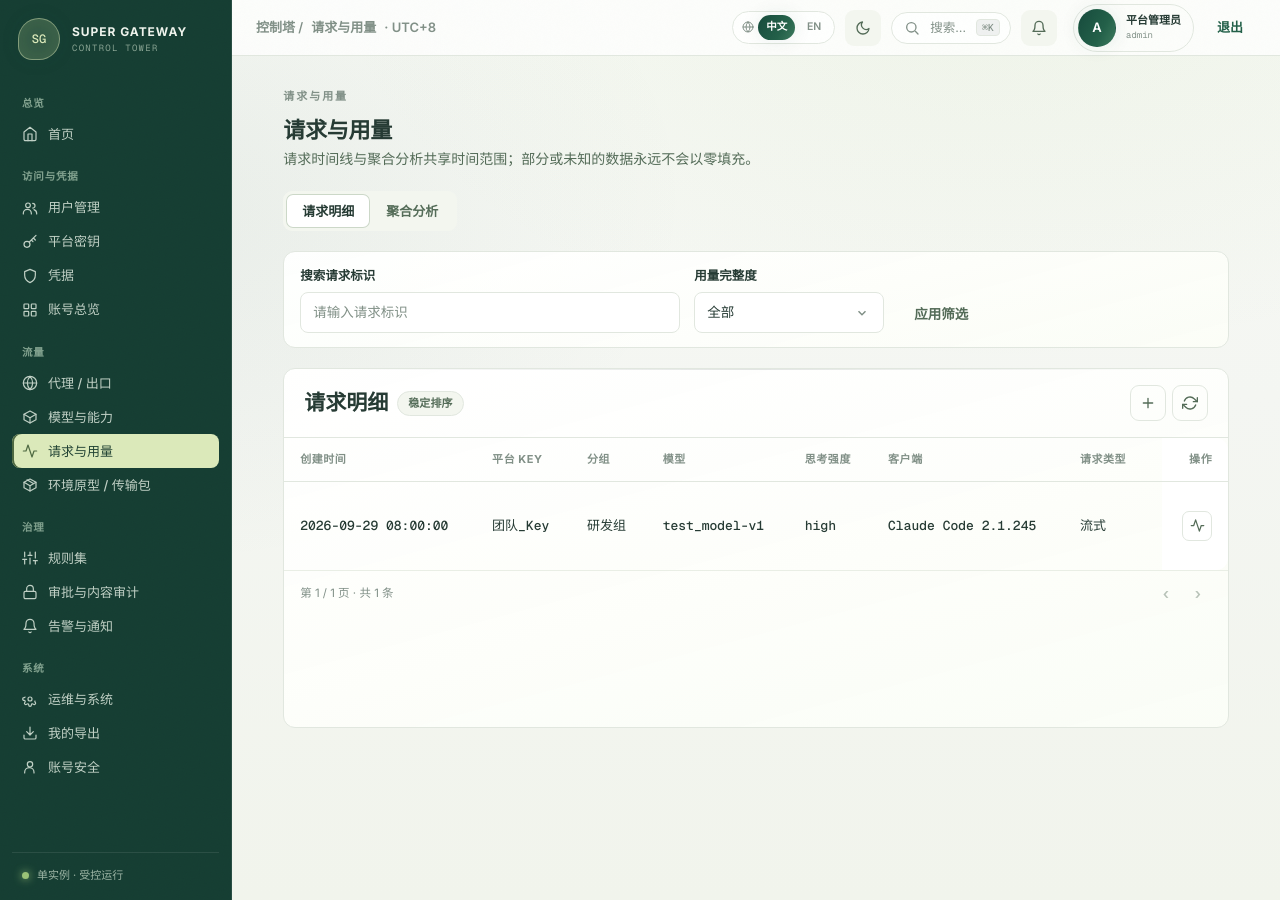
shows named resources and all four token counts, keeps IDs out of the list, and opens a right drawer
The image size is (1280, 900).
Expected: the text "2026-09-29 08:00:00" is shown, [284,482,476,570]
Expected: the text "团队_Key" is shown, [476,482,571,570]
Click the button named "查看详情" at (1197,526), box [1182,511,1212,541]
(page scrolled)
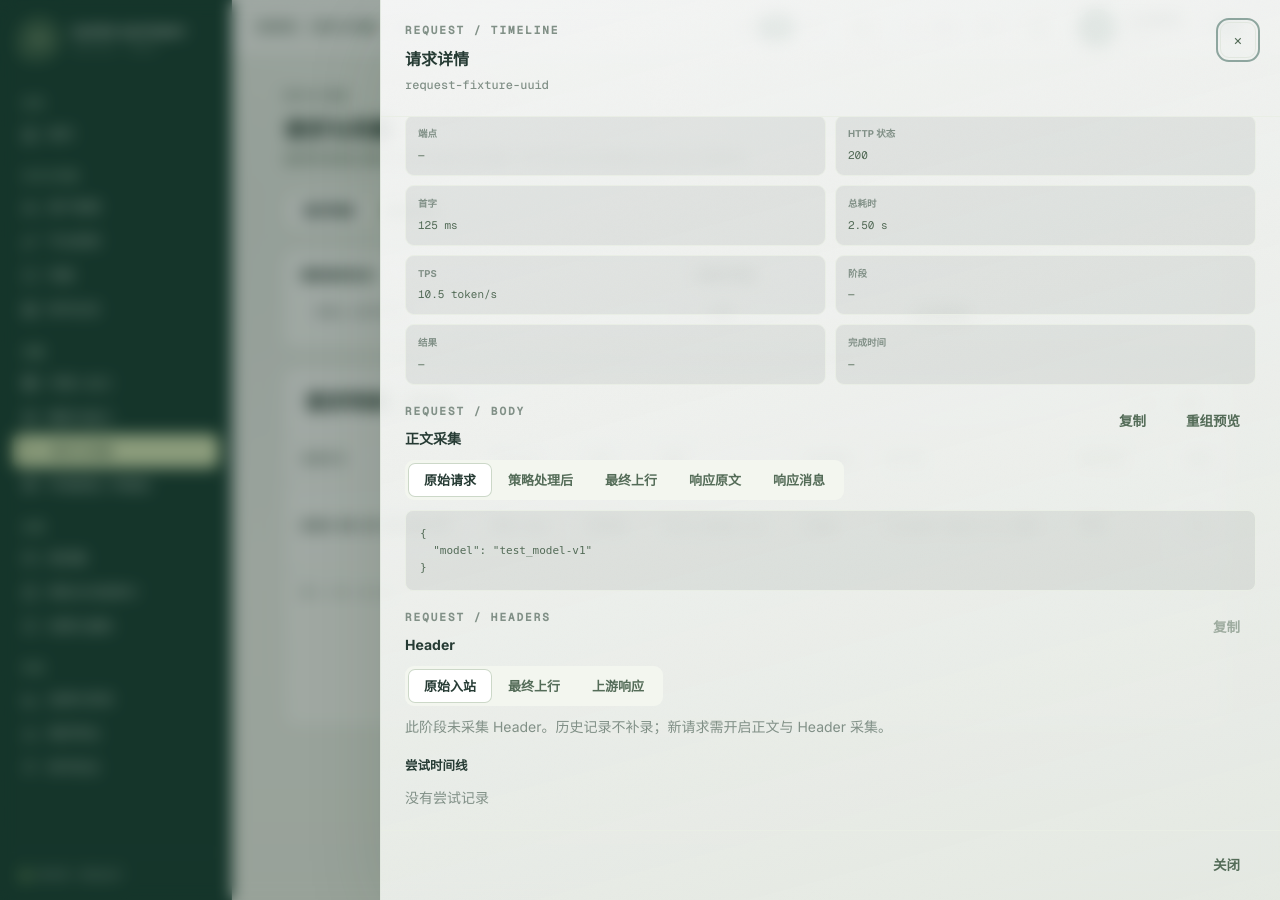
Expected: the text "{ \"model\": \"test_model-v1\" }" is shown, [405,510,1256,591]
Press Escape
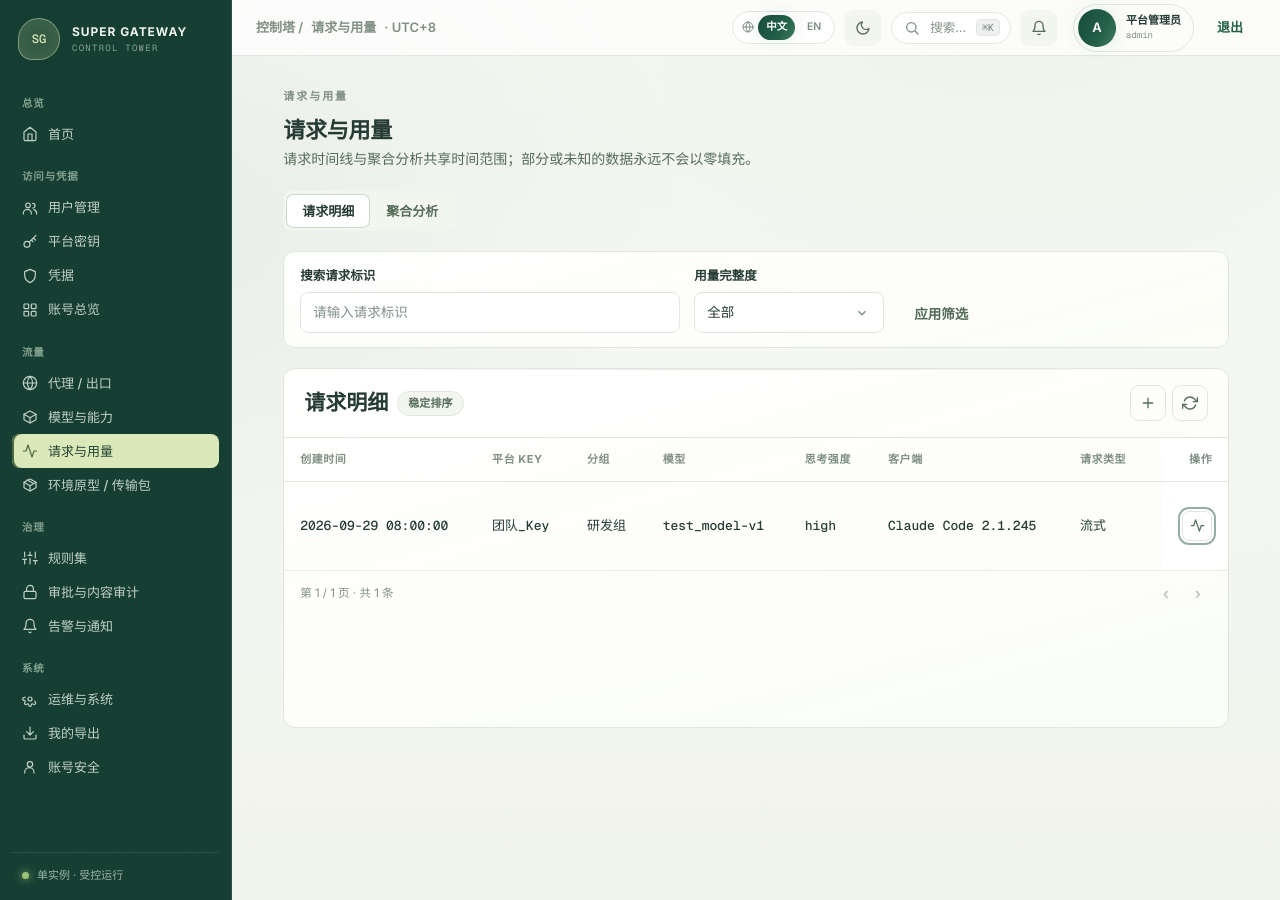
Expected: the dialog is gone
